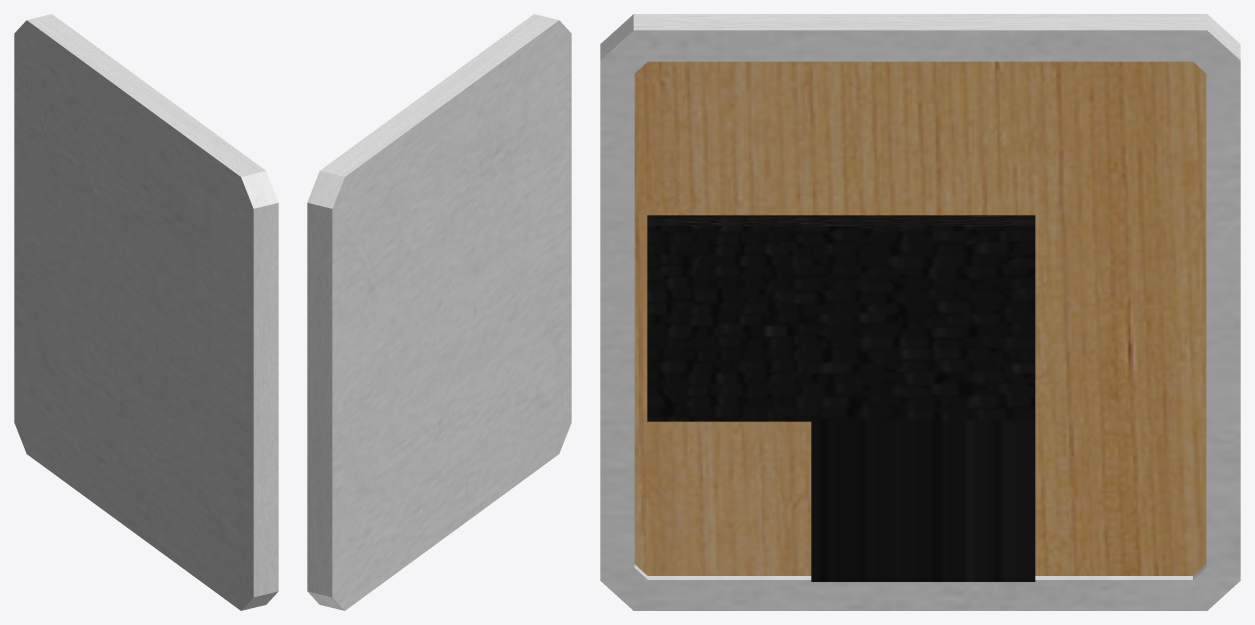
Rendered from Peça5.fbx.
The picture shows the model from 3 angles, left to right: view 1: azimuth 30°, elevation 25°; view 2: azimuth 150°, elevation 25°; view 3: azimuth 270°, elevation 25°; orthographic projection. The views are drawn at different scales.
Parts seen in each view (by area): view 1: Cube.022; view 2: Cube.022; view 3: Cube.022.
Boxes of the visible parts, <box> form: Cube.022: <box>14,14,278,610</box>; Cube.022: <box>307,14,571,610</box>; Cube.022: <box>600,14,1240,610</box>.
Bounding box in the file's own units: 3.75 × 42.45 × 42.45.
3 materials, 3 textured.
